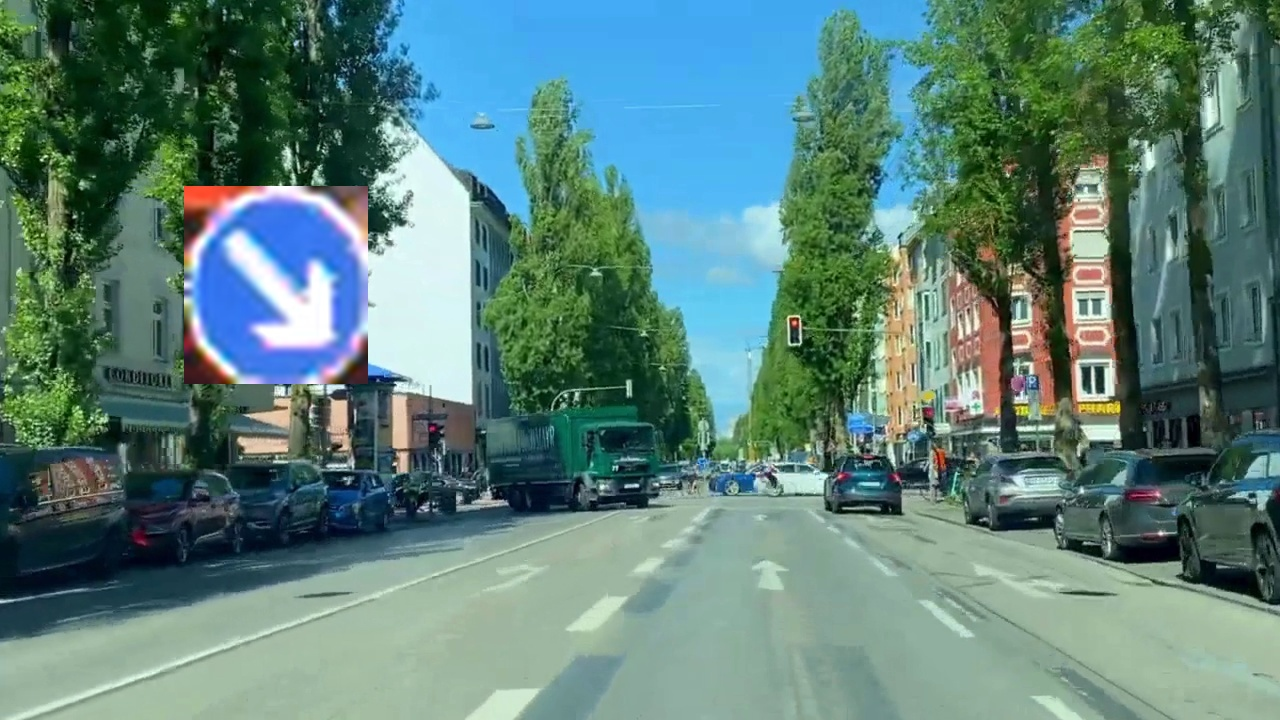Keep right: (184, 186, 368, 384)
